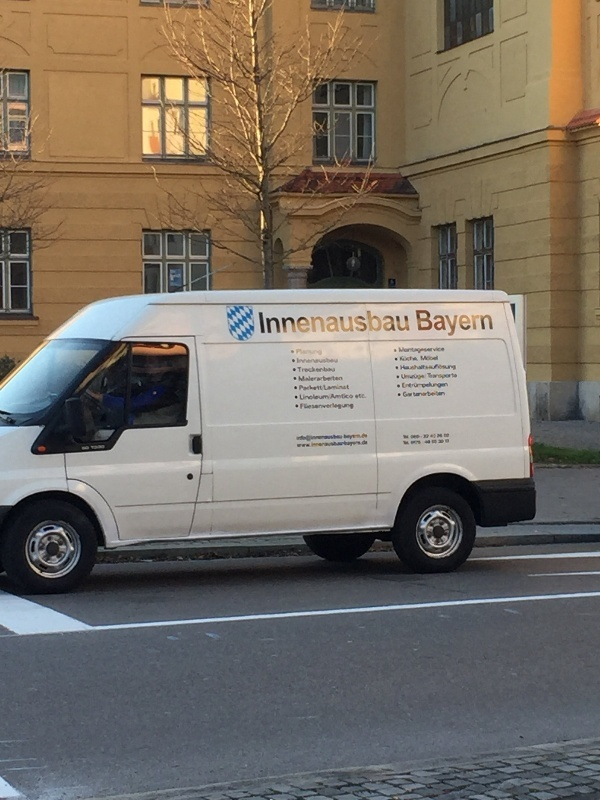text: (289, 346, 304, 414), (305, 346, 320, 414), (321, 346, 336, 414), (337, 346, 352, 414), (353, 346, 368, 414), (401, 346, 416, 403), (417, 346, 432, 403), (433, 346, 448, 403), (449, 346, 463, 403), (417, 310, 432, 342), (433, 310, 448, 342), (449, 310, 464, 342), (465, 310, 480, 342), (481, 310, 496, 342), (392, 346, 400, 403), (257, 308, 272, 336), (273, 308, 288, 336), (289, 308, 304, 336), (305, 308, 320, 336), (321, 308, 336, 336), (337, 308, 352, 336), (353, 308, 368, 336), (369, 308, 384, 336), (385, 308, 400, 336), (305, 430, 320, 452), (321, 430, 336, 452), (337, 430, 352, 452), (353, 430, 368, 452), (401, 308, 412, 336), (417, 431, 432, 447), (433, 431, 448, 447), (403, 431, 416, 447), (295, 430, 304, 452), (81, 444, 96, 452), (369, 346, 370, 414), (97, 444, 105, 452), (449, 431, 452, 447), (369, 430, 370, 452)
